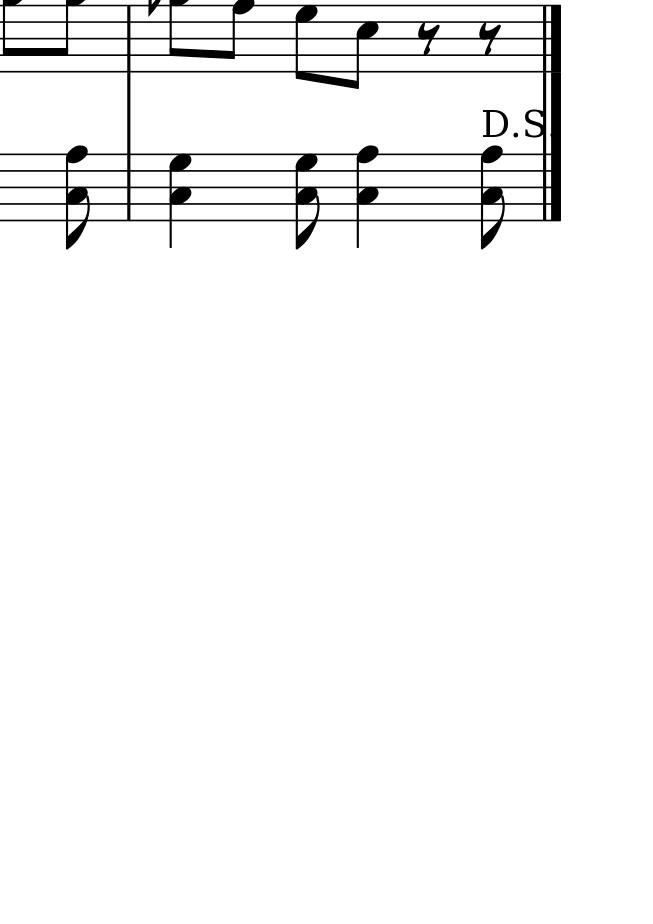4_3_7: (167, 152, 194, 250)
4_3_8: (354, 145, 380, 250)
8_3_7: (294, 152, 320, 252)
8_3_8: (64, 144, 91, 252), (479, 142, 506, 250)
DS: (479, 105, 546, 139)
Final_barline: (534, 153, 565, 221), (537, 4, 565, 72)
Rests8: (415, 21, 440, 54), (477, 22, 503, 53)
Single_barline: (121, 5, 138, 73), (121, 154, 138, 218)
